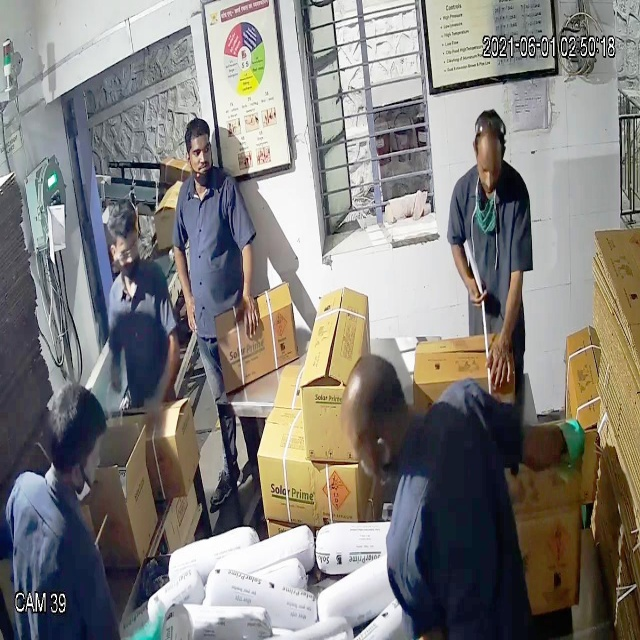Gafas: (106, 230, 143, 275)
Sin_gafas: (475, 148, 507, 187), (181, 138, 218, 169)
